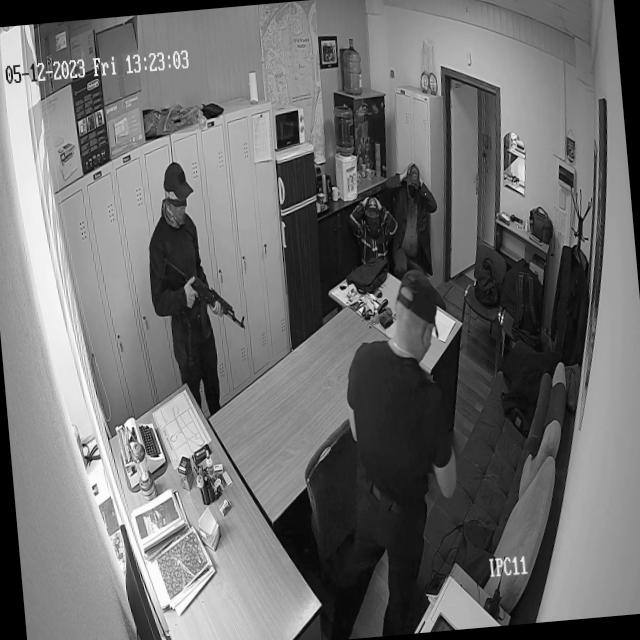gun: (170, 247, 245, 336)
person: (343, 247, 470, 603), (351, 176, 392, 252), (396, 156, 432, 232)
person with a gun: (140, 153, 227, 421)
